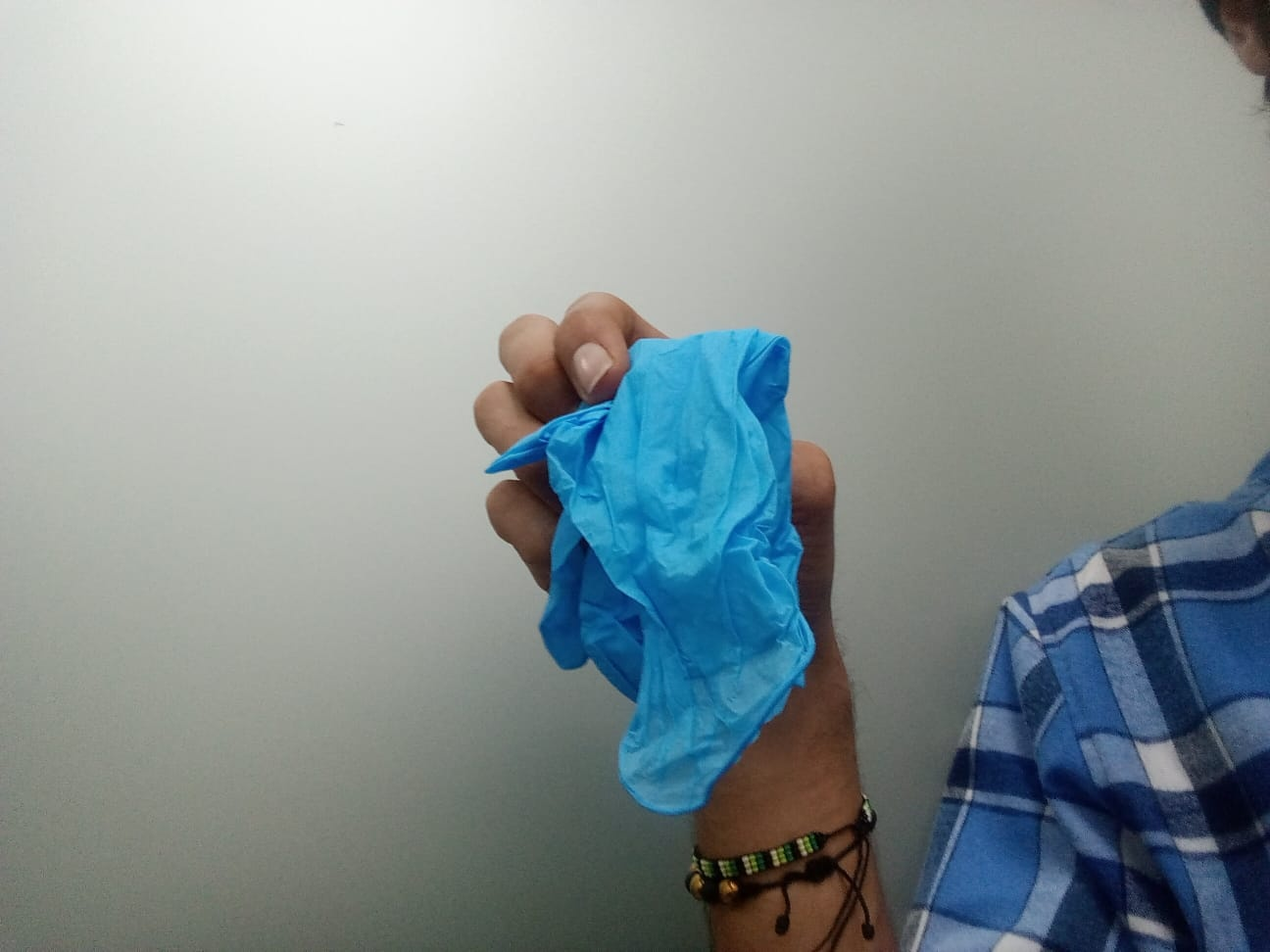Ordinario: (486, 329, 818, 814)
